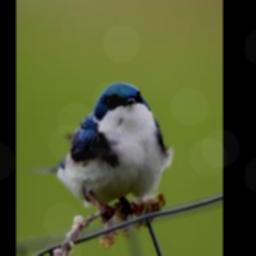Swallow: (24, 81, 175, 223)
